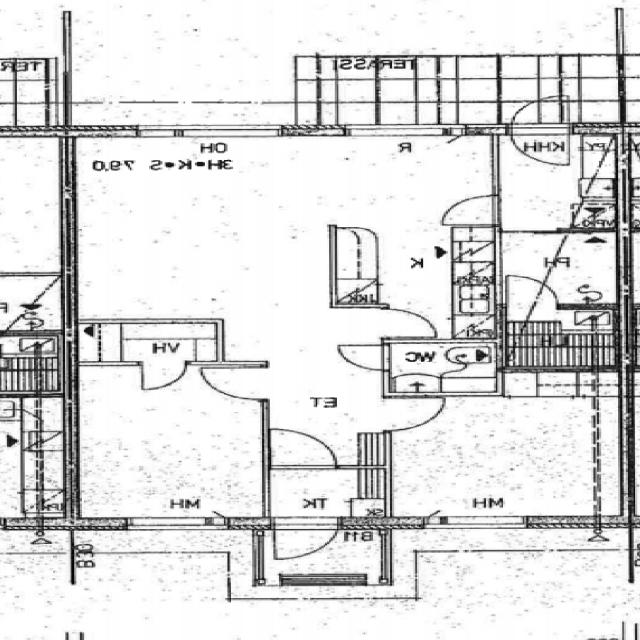door: (274, 516, 337, 564), (272, 430, 336, 469), (512, 124, 570, 167), (512, 92, 570, 135), (385, 398, 450, 431), (206, 368, 270, 400), (441, 195, 502, 225), (506, 275, 558, 310), (339, 345, 391, 370), (142, 362, 185, 389)
